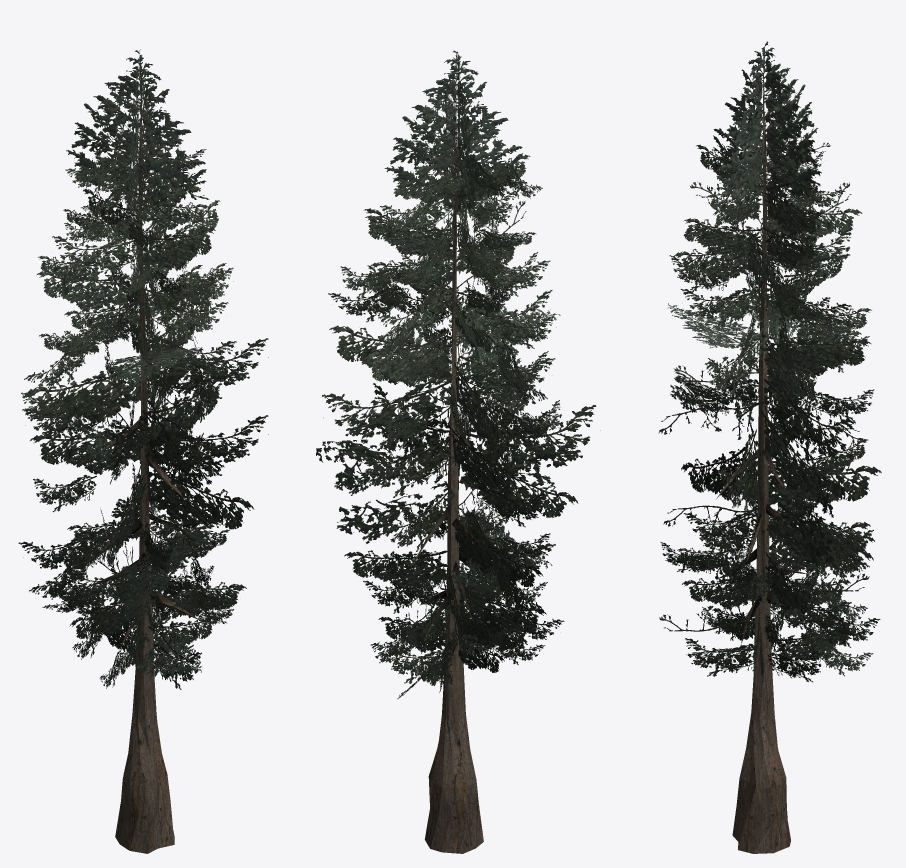
File: forest_oak_big.glb
3 views of the same model, side by side, from view 1: azimuth 30°, elevation 25°; view 2: azimuth 150°, elevation 25°; view 3: azimuth 270°, elevation 25° (orthographic).
Size of the model in its own units: 2.35 by 7.66 by 2.26.
2 materials, 2 textured.
